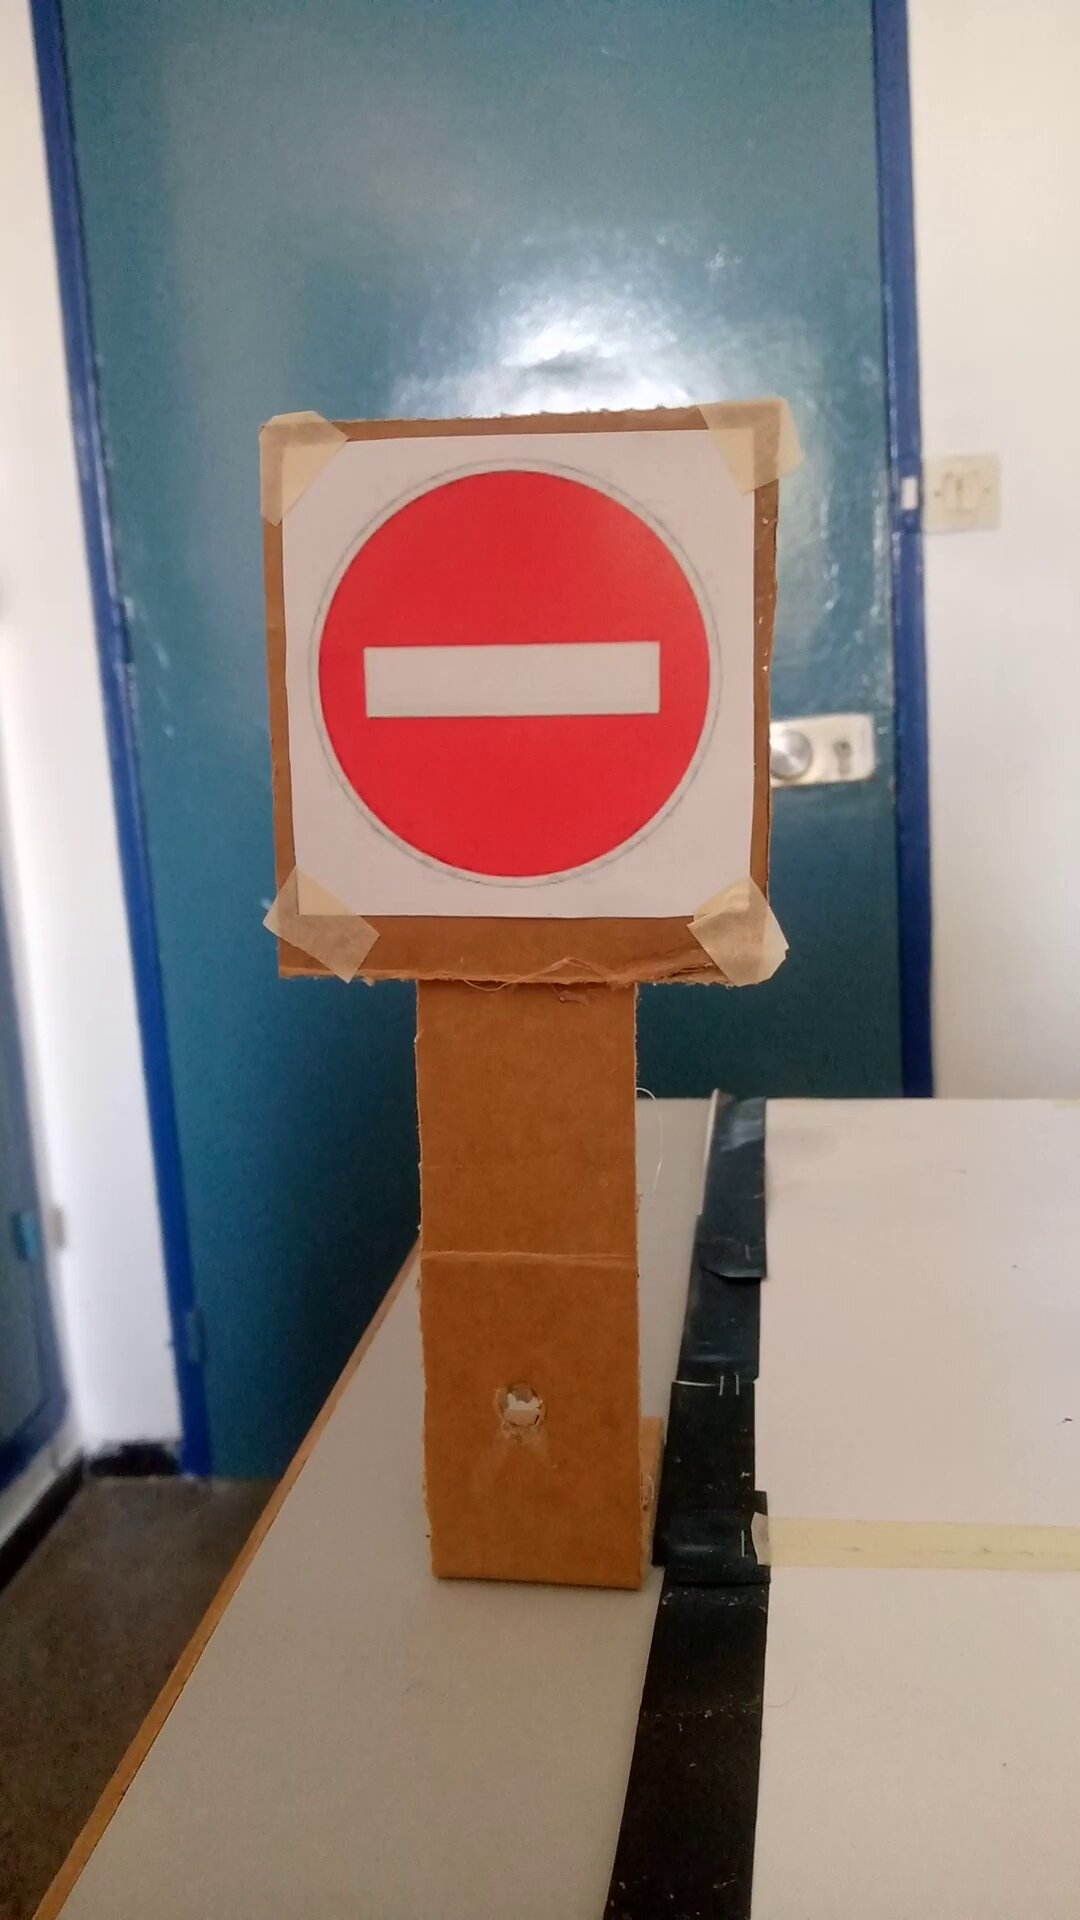panel010: (276, 436, 744, 928)
